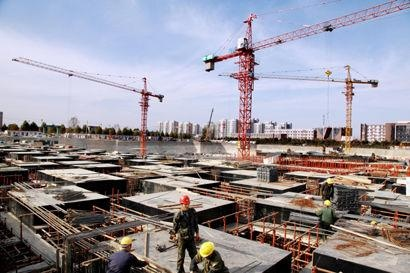red: (177, 194, 190, 211)
yellow: (198, 239, 216, 258), (120, 235, 133, 252)
